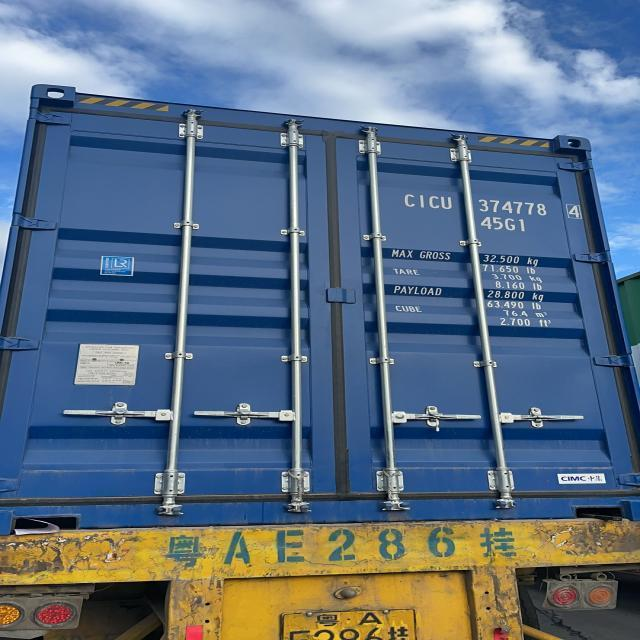ISO: (480, 217, 528, 234)
container_number: (407, 199, 594, 216)
